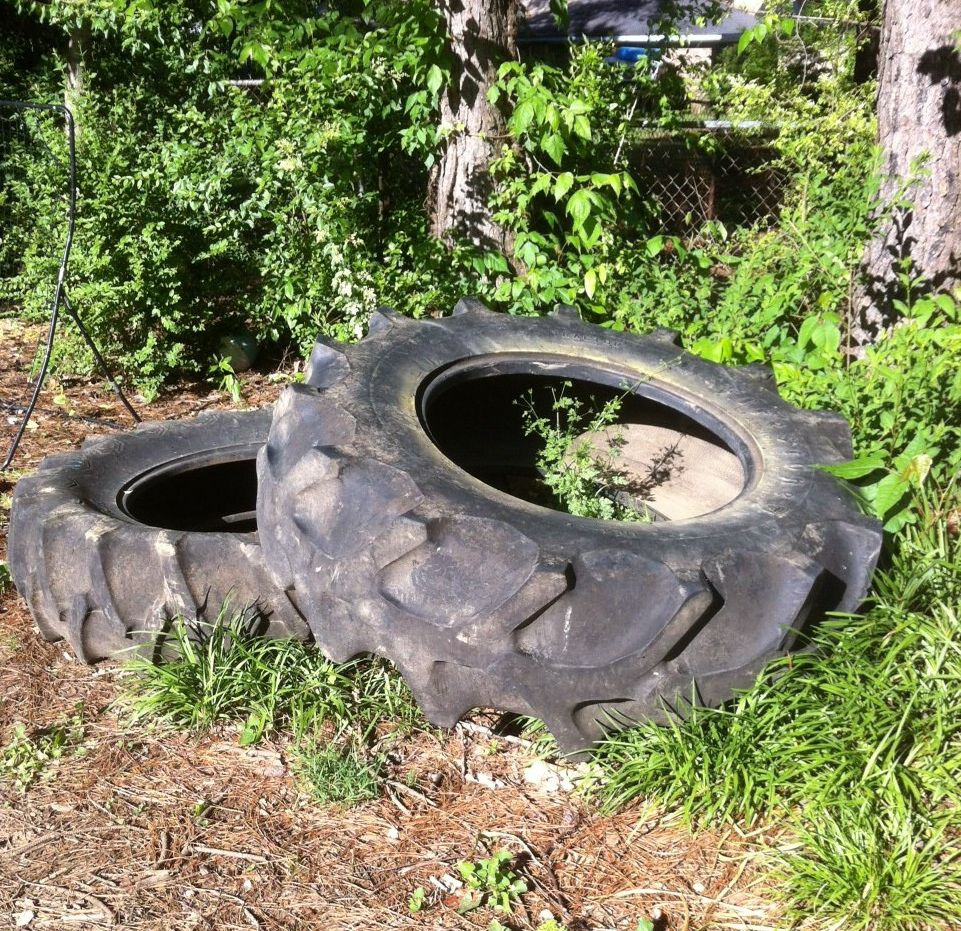tire: (263, 302, 893, 747), (9, 370, 553, 668)
